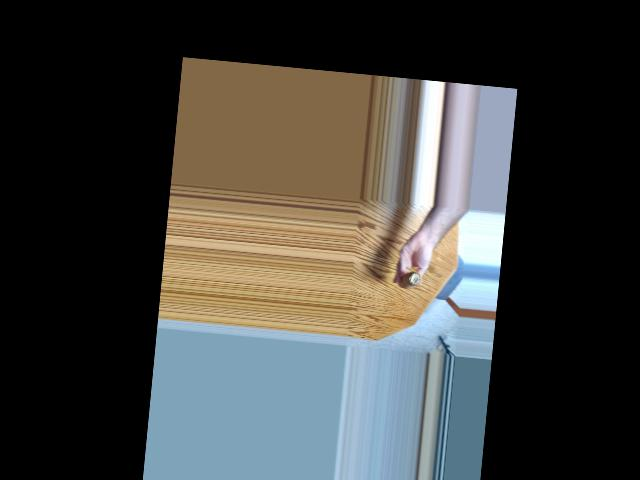sweet_potato: (396, 264, 426, 293)
